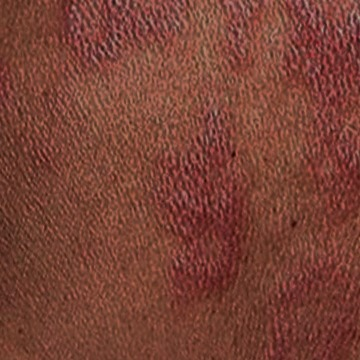Leprosy: (138, 103, 279, 300), (215, 0, 359, 86), (56, 0, 202, 68)
